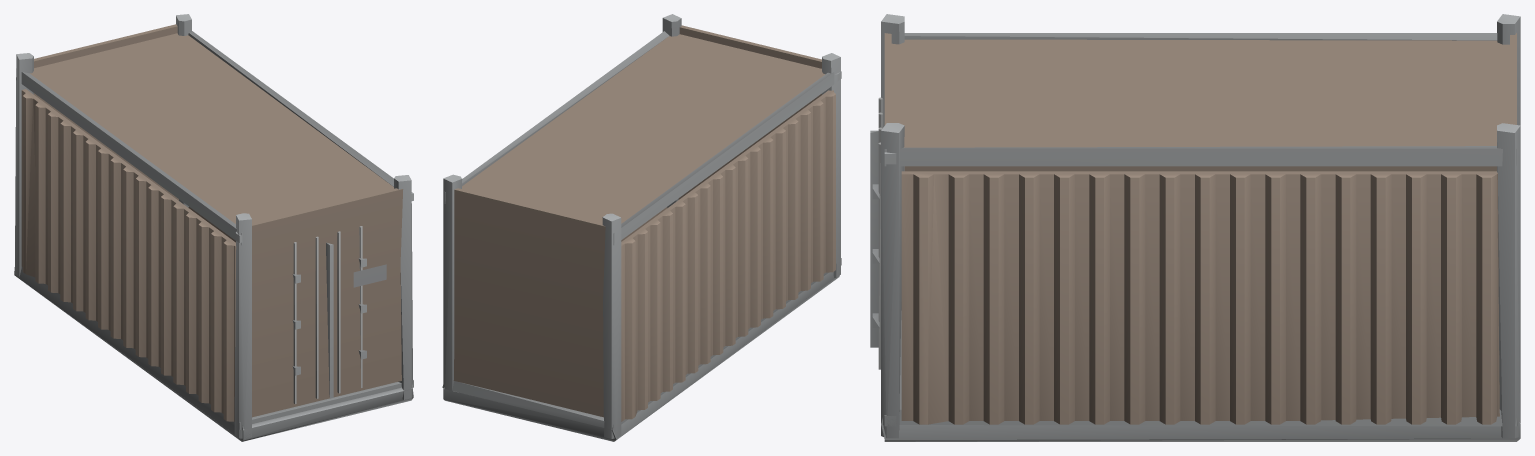
3 views of the same model, side by side, from view 1: azimuth 30°, elevation 25°; view 2: azimuth 150°, elevation 25°; view 3: azimuth 270°, elevation 25° (orthographic). The views are drawn at different scales.
Size of the model in its own units: 2.48 by 2.89 by 5.49.
